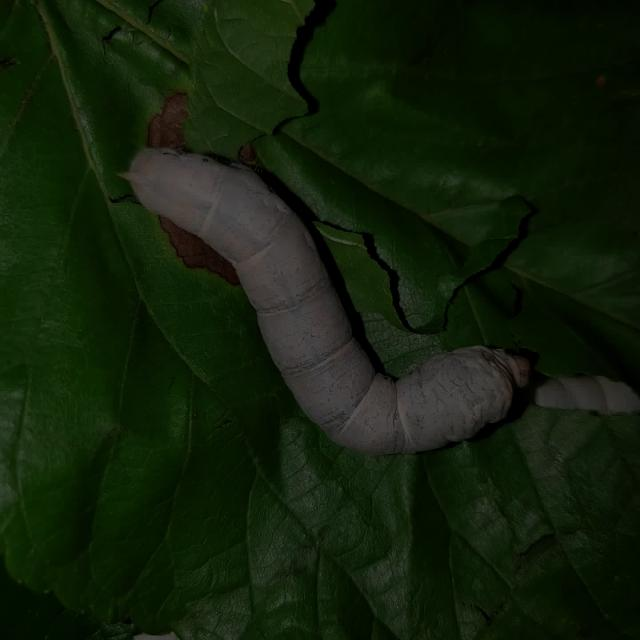Healthy: (104, 104, 557, 480)
